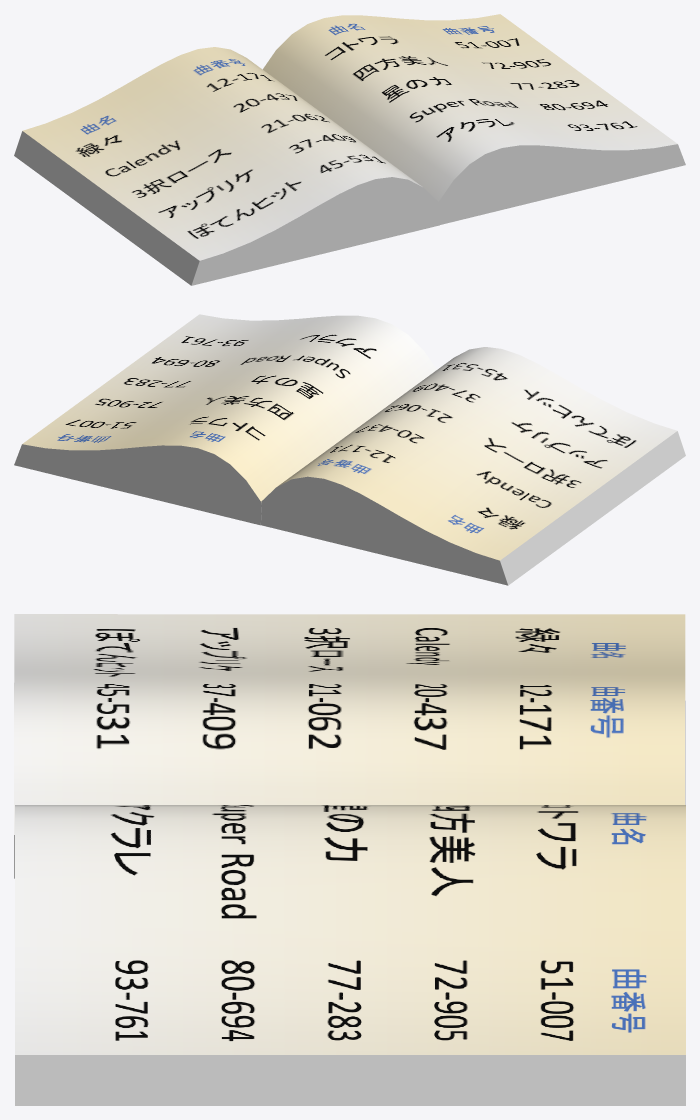
Rendered from Book.fbx.
The picture shows the model from 3 angles, top to bottom: view 1: azimuth 30°, elevation 25°; view 2: azimuth 150°, elevation 25°; view 3: azimuth 270°, elevation 25°; orthographic projection. The views are drawn at different scales.
Parts seen in each view (by area): view 1: ベジエカーブ.001, ベジエカーブ; view 2: ベジエカーブ.001, ベジエカーブ; view 3: ベジエカーブ, ベジエカーブ.001.
Part boxes in pixels (x1=…): ベジエカーブ.001: x1=14, y1=47, x2=439, y2=285; ベジエカーブ: x1=263, y1=14, x2=685, y2=224; ベジエカーブ.001: x1=261, y1=347, x2=685, y2=585; ベジエカーブ: x1=14, y1=314, x2=436, y2=525; ベジエカーブ: x1=15, y1=805, x2=685, y2=1105; ベジエカーブ.001: x1=14, y1=614, x2=685, y2=878.
Size of the model in its own units: 1.53 by 0.1826 by 0.9499.
3 materials, 2 textured.
